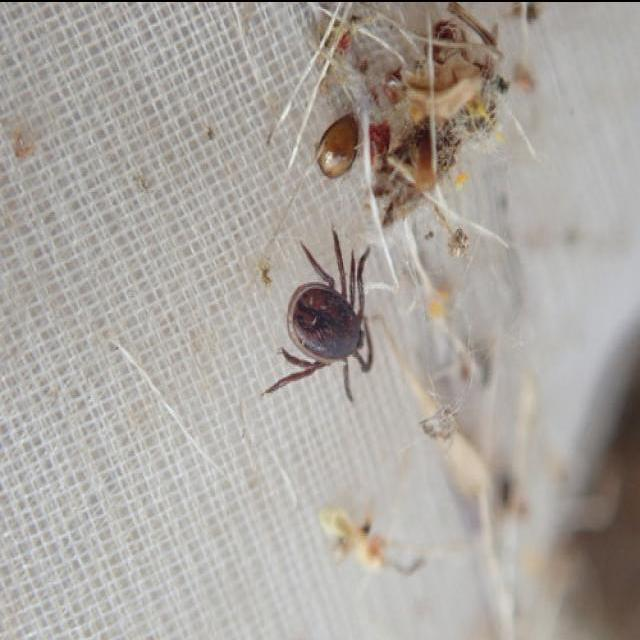Ixodes Ricinus-M: (264, 227, 374, 403)
